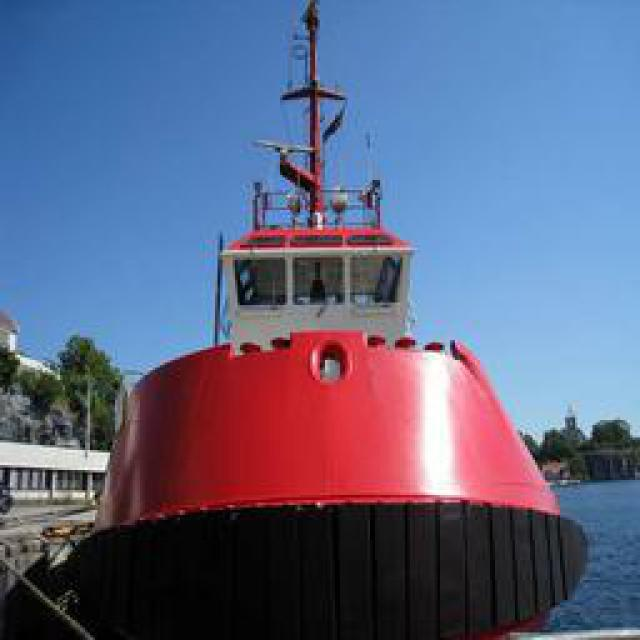Ship: (26, 1, 599, 626)
